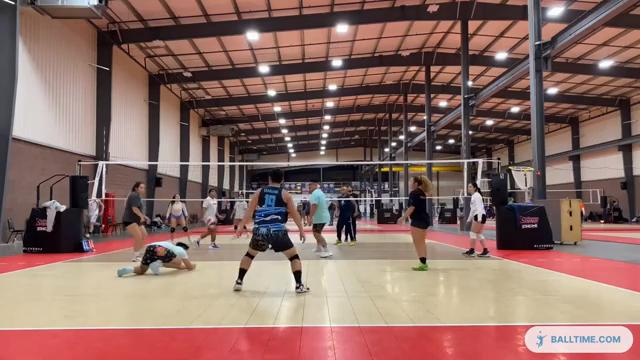difesa: (115, 237, 199, 278)
